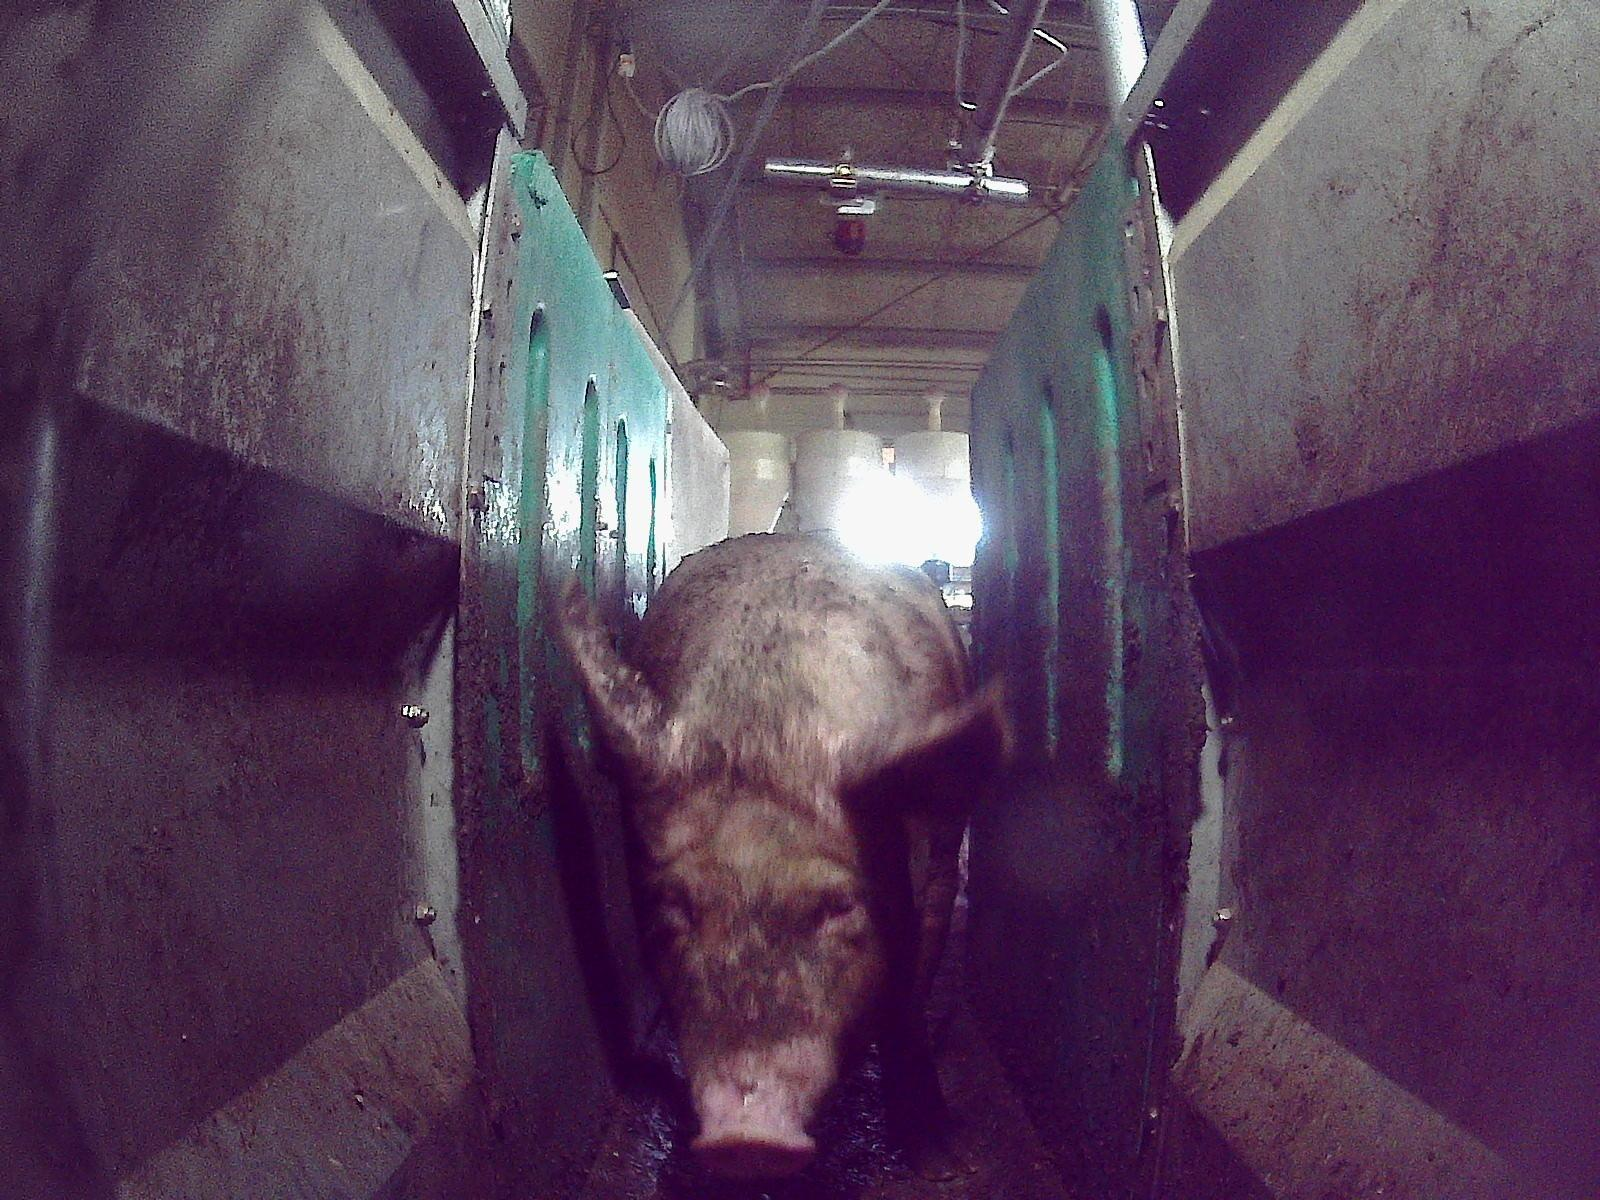Face: (626, 734, 905, 1178)
